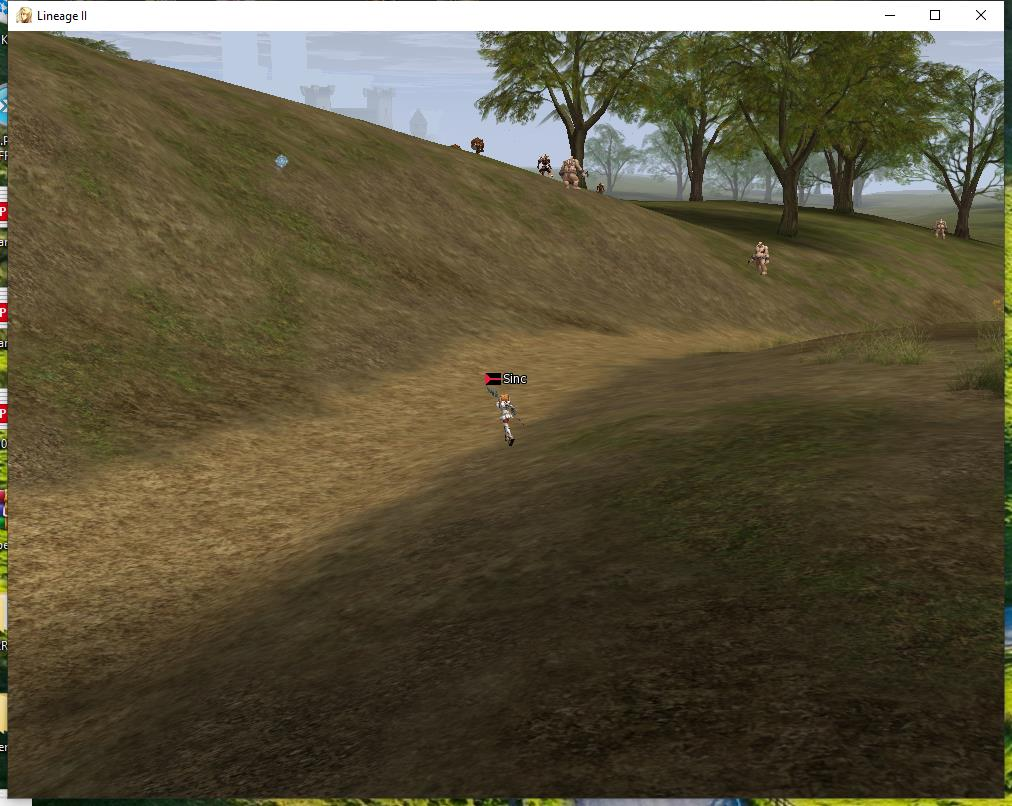monster: (746, 233, 776, 279), (560, 152, 584, 190), (535, 148, 552, 174), (468, 132, 486, 155), (597, 179, 608, 196)
